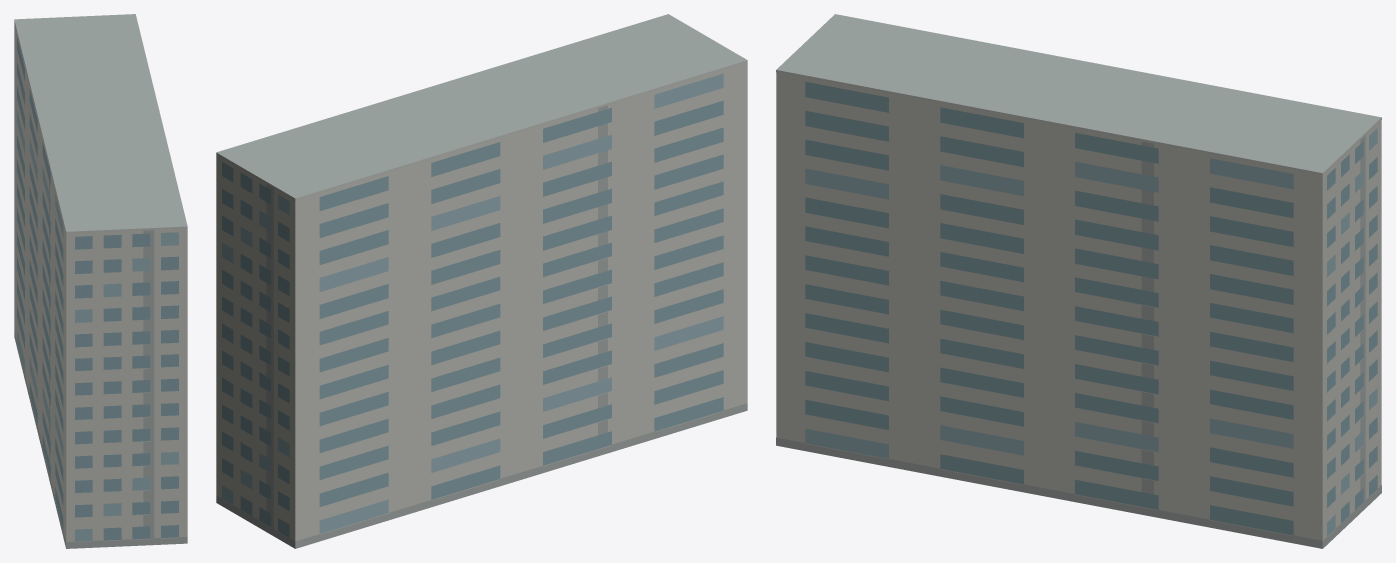
File: residential-3020043b-9910-48d6-a961-1bba0f688ccf.glb
3 renders of one model, left to right at view 1: azimuth 30°, elevation 25°; view 2: azimuth 150°, elevation 25°; view 3: azimuth 270°, elevation 25°, orthographic. The views are drawn at different scales.
Visible parts, largest first — view 1: residential-3020043b-9910-48d6-a961-1bba0f688ccf.tmp; view 2: residential-3020043b-9910-48d6-a961-1bba0f688ccf.tmp; view 3: residential-3020043b-9910-48d6-a961-1bba0f688ccf.tmp.
Part boxes in pixels (x1,y1,x2,y2): residential-3020043b-9910-48d6-a961-1bba0f688ccf.tmp: (14,14,187,548); residential-3020043b-9910-48d6-a961-1bba0f688ccf.tmp: (216,14,747,548); residential-3020043b-9910-48d6-a961-1bba0f688ccf.tmp: (776,14,1381,548).
Size of the model in its own units: 33.62 by 37 by 54.06.
